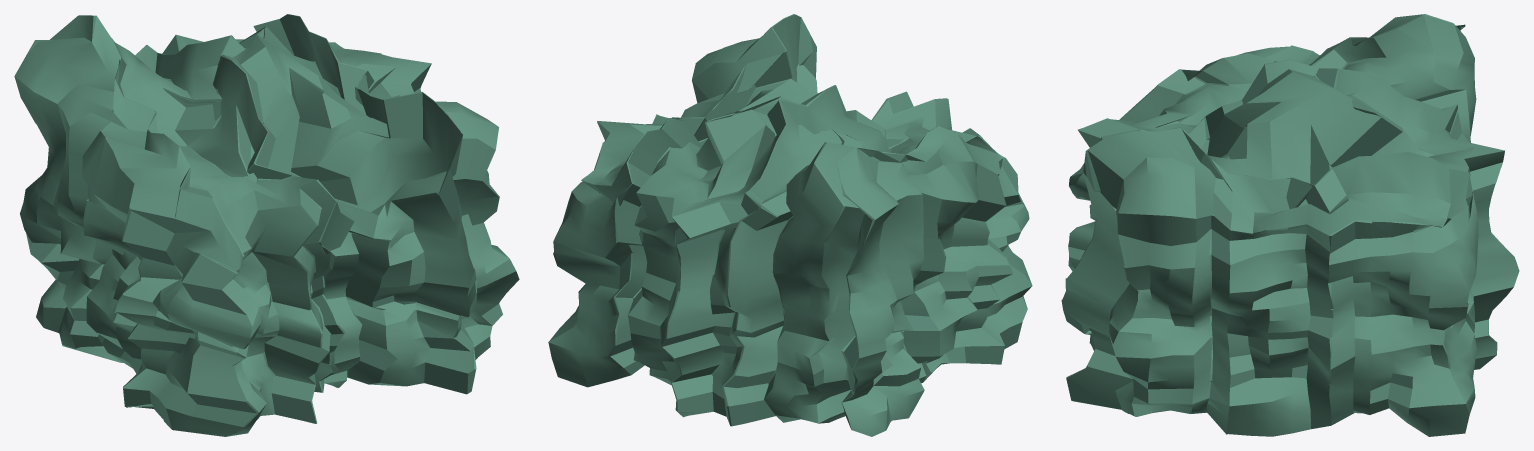
File: cliffs02.fbx
3 renders of one model, left to right at view 1: azimuth 30°, elevation 25°; view 2: azimuth 150°, elevation 25°; view 3: azimuth 270°, elevation 25°, orthographic. The views are drawn at different scales.
Visible parts, largest first — view 1: Cube.001; view 2: Cube.001; view 3: Cube.001.
Part boxes in pixels (x1,y1,x2,y2): Cube.001: [14, 14, 519, 436]; Cube.001: [548, 14, 1032, 436]; Cube.001: [1061, 14, 1519, 436].
Bounding box in the file's own units: 1174 × 874 × 1210.
